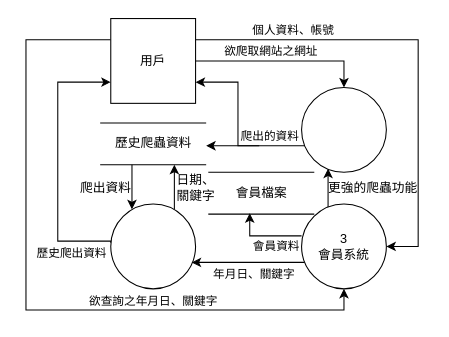
Image size: 449x337. Some labels were removed from this diagram. The shapes that lost their labels are listed below. From the top down, each one's centre as x and y in pixels, then its label:
At (343,129): "1 網頁爬蟲".
At (153,246): "2 爬蟲紀錄查詢".
